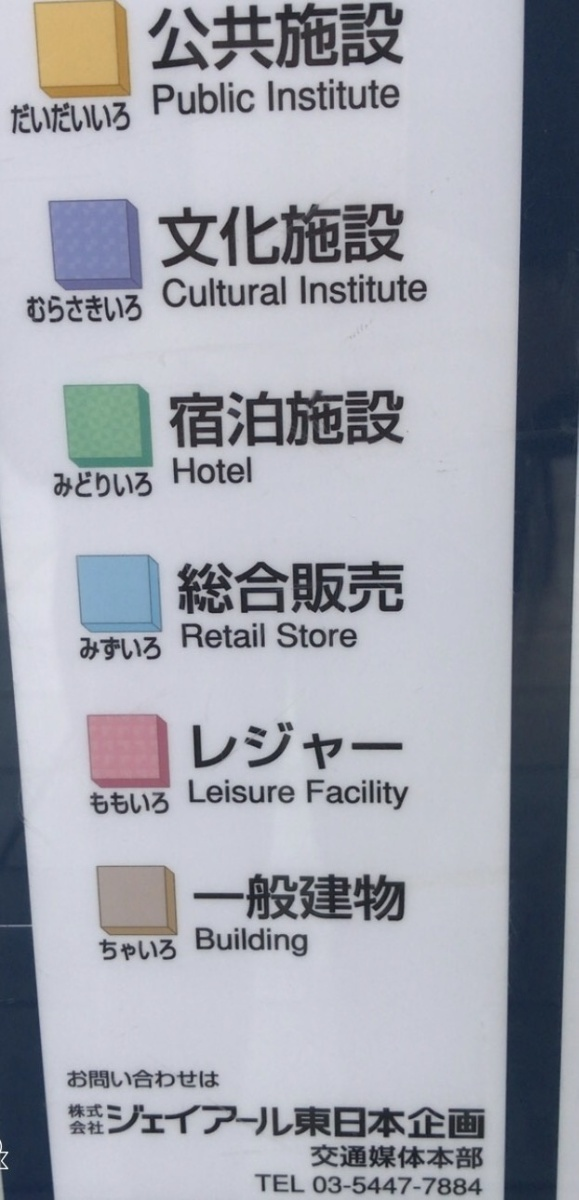text: (161, 3, 176, 72), (177, 3, 192, 72), (193, 3, 208, 72), (209, 3, 224, 72), (225, 3, 240, 72), (241, 3, 256, 72), (257, 3, 272, 72), (273, 3, 288, 72), (289, 3, 304, 72), (305, 3, 320, 72), (321, 3, 336, 72), (337, 3, 352, 72), (353, 3, 368, 72), (369, 3, 384, 72), (385, 3, 400, 72), (161, 203, 176, 268), (177, 203, 192, 268), (193, 203, 208, 268), (209, 203, 224, 268), (225, 203, 240, 268), (241, 203, 256, 268), (257, 203, 272, 268), (273, 203, 288, 268), (289, 203, 304, 268), (305, 203, 320, 268), (321, 203, 336, 268), (337, 203, 352, 268), (353, 203, 368, 268), (369, 203, 384, 268), (385, 203, 400, 268), (177, 388, 192, 449), (193, 388, 208, 449), (209, 388, 224, 449), (225, 388, 240, 449), (241, 388, 256, 449), (257, 388, 272, 449), (273, 388, 288, 449), (289, 388, 304, 449), (305, 388, 320, 449), (321, 388, 336, 449), (337, 388, 352, 449), (353, 388, 368, 449), (369, 388, 384, 449), (385, 388, 400, 449), (177, 560, 192, 614), (193, 560, 208, 614), (209, 560, 224, 614), (225, 560, 240, 614), (241, 560, 256, 614), (257, 560, 272, 614), (273, 560, 288, 614), (289, 560, 304, 614), (305, 560, 320, 614), (321, 560, 336, 614), (337, 560, 352, 614), (353, 560, 368, 614), (369, 560, 384, 614), (385, 560, 400, 614), (209, 719, 224, 772), (225, 719, 240, 772), (241, 719, 256, 772), (257, 719, 272, 772), (273, 719, 288, 772), (289, 719, 304, 772), (305, 719, 320, 772), (321, 719, 336, 772), (337, 719, 352, 772), (353, 719, 368, 772), (369, 719, 384, 772), (385, 719, 400, 772), (149, 3, 160, 72), (194, 719, 208, 772), (209, 875, 224, 924), (225, 875, 240, 924), (241, 875, 256, 924), (257, 875, 272, 924), (273, 875, 288, 924), (289, 875, 304, 924), (305, 875, 320, 924), (321, 875, 336, 924), (337, 875, 352, 924), (353, 875, 368, 924), (369, 875, 384, 924), (385, 875, 400, 924), (195, 875, 208, 924), (113, 1104, 128, 1146), (129, 1104, 144, 1146), (145, 1104, 160, 1146), (161, 1104, 176, 1146), (177, 1104, 192, 1146), (193, 1104, 208, 1146), (209, 1104, 224, 1146), (225, 1104, 240, 1146), (241, 1104, 256, 1146), (257, 1104, 272, 1146), (273, 1104, 288, 1146), (289, 1104, 304, 1146), (305, 1104, 320, 1146), (321, 1104, 336, 1146), (337, 1104, 352, 1146), (353, 1104, 368, 1146), (369, 1104, 384, 1146), (385, 1104, 400, 1146), (401, 1104, 416, 1146), (417, 1104, 432, 1146), (433, 1104, 448, 1146), (449, 1104, 464, 1146), (465, 1104, 480, 1146), (161, 82, 176, 118), (177, 82, 192, 118), (193, 82, 208, 118), (209, 82, 224, 118), (225, 82, 240, 118), (241, 82, 256, 118), (385, 80, 401, 113), (321, 778, 336, 813), (337, 778, 352, 813), (353, 778, 368, 813), (369, 778, 384, 813), (385, 778, 400, 813), (273, 80, 288, 113), (289, 80, 304, 113), (305, 80, 320, 113), (321, 80, 336, 113), (337, 80, 352, 113), (353, 80, 368, 113), (369, 80, 384, 113), (209, 928, 224, 961), (225, 928, 240, 961), (241, 928, 256, 961), (257, 928, 272, 961), (273, 928, 288, 961), (289, 928, 304, 961), (305, 274, 320, 306), (321, 274, 336, 306), (337, 274, 352, 306), (353, 274, 368, 306), (369, 274, 384, 306), (385, 274, 400, 306), (401, 274, 416, 306), (17, 103, 32, 134), (33, 103, 48, 134), (49, 103, 64, 134), (65, 103, 80, 134), (81, 103, 96, 134), (97, 103, 112, 134), (113, 103, 128, 134), (177, 278, 192, 309), (193, 278, 208, 309), (209, 278, 224, 309), (225, 278, 240, 309), (241, 278, 256, 309), (257, 278, 272, 309), (177, 456, 192, 486), (193, 456, 208, 486), (209, 456, 224, 486), (225, 456, 240, 486), (162, 278, 176, 309), (33, 295, 48, 322), (49, 295, 64, 322), (65, 295, 80, 322), (81, 295, 96, 322), (97, 295, 112, 322), (113, 295, 128, 322), (193, 623, 208, 650), (209, 623, 224, 650), (225, 623, 240, 650), (241, 623, 256, 650), (289, 623, 304, 650), (305, 623, 320, 650), (321, 623, 336, 650), (337, 623, 352, 650), (321, 1146, 336, 1173), (337, 1146, 352, 1173), (353, 1146, 368, 1173), (369, 1146, 384, 1173), (385, 1146, 400, 1173), (401, 1146, 416, 1173), (417, 1146, 432, 1173), (433, 1146, 448, 1173), (449, 1146, 464, 1173), (465, 1146, 480, 1173), (273, 278, 286, 309), (196, 928, 208, 961), (65, 471, 80, 497), (81, 471, 96, 497), (97, 471, 112, 497), (113, 471, 128, 497), (129, 471, 144, 497), (193, 779, 208, 805), (209, 779, 224, 805), (225, 779, 240, 805), (241, 779, 256, 805), (257, 779, 272, 805), (273, 779, 288, 805), (309, 778, 320, 813), (145, 637, 161, 660), (170, 388, 176, 449), (417, 274, 428, 306), (81, 637, 96, 660), (97, 637, 112, 660), (113, 637, 128, 660), (129, 637, 144, 660), (97, 791, 112, 814), (113, 791, 128, 814), (129, 791, 144, 814), (145, 791, 160, 814), (113, 939, 128, 961), (129, 939, 144, 961), (145, 939, 160, 961), (161, 939, 176, 961), (241, 456, 252, 486), (321, 1176, 336, 1198), (337, 1176, 352, 1198), (353, 1176, 368, 1198), (369, 1176, 384, 1198), (385, 1176, 400, 1198), (401, 1176, 416, 1198), (417, 1176, 432, 1198), (433, 1176, 448, 1198), (449, 1176, 464, 1198), (465, 1176, 480, 1198), (129, 295, 141, 322), (81, 1072, 96, 1092), (97, 1072, 112, 1092), (113, 1072, 128, 1092), (129, 1072, 144, 1092), (145, 1072, 160, 1092), (161, 1072, 176, 1092), (177, 1072, 192, 1092), (193, 1072, 208, 1092), (99, 939, 112, 961), (257, 1174, 272, 1193), (273, 1174, 288, 1193), (289, 1174, 304, 1193), (401, 778, 409, 813), (182, 623, 192, 650), (278, 623, 288, 650), (54, 471, 64, 497), (153, 82, 160, 118), (401, 875, 406, 924), (257, 623, 266, 650), (311, 1146, 320, 1173), (68, 1072, 80, 1092), (81, 1104, 96, 1120), (81, 1121, 96, 1136), (401, 3, 404, 72), (209, 1072, 219, 1092), (401, 203, 404, 268), (68, 1104, 80, 1120), (161, 791, 169, 814), (401, 388, 404, 449), (145, 471, 152, 497), (289, 779, 296, 805), (108, 1104, 112, 1146), (481, 1104, 485, 1146), (69, 1121, 80, 1136), (401, 560, 404, 614), (401, 719, 404, 772), (11, 103, 16, 134), (313, 1176, 320, 1198), (90, 791, 96, 814), (27, 295, 32, 322), (353, 623, 358, 650), (305, 928, 309, 961), (97, 1121, 105, 1136), (97, 1104, 104, 1120), (269, 80, 272, 113), (301, 274, 304, 306), (481, 1146, 484, 1173), (189, 779, 192, 805), (481, 1176, 484, 1198), (159, 203, 160, 268), (174, 456, 176, 486), (129, 103, 130, 134), (255, 1174, 256, 1193), (305, 1174, 306, 1193)
